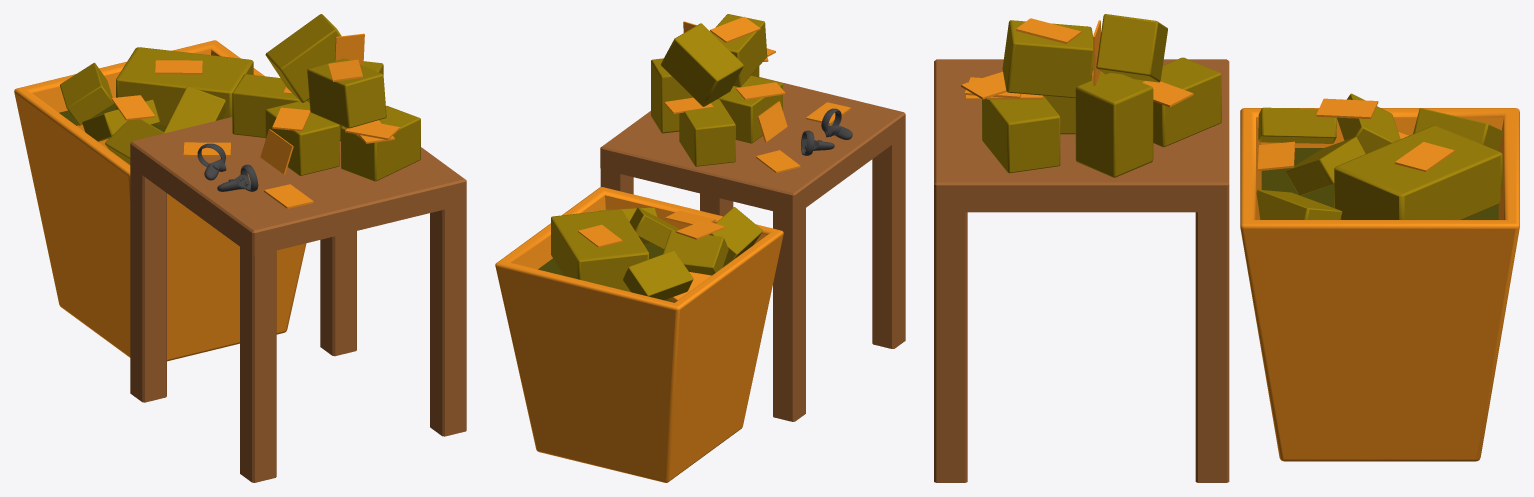
The model's file is posti_models.fbx.
3 renders of one model, left to right at view 1: azimuth 30°, elevation 25°; view 2: azimuth 150°, elevation 25°; view 3: azimuth 270°, elevation 25°, orthographic. The views are drawn at different scales.
Parts seen in each view (by area): view 1: Cube.001, Laatikko, Cube.004, Cube.012, Cube.003, Cube.013, Cube, Cube.002, Cube.008, Cube.005, Cube.006, Cube.007 (+11 smaller); view 2: Laatikko, Cube.001, Cube.004, Cube.013, Cube.002, Cube.008, Cube, Cube.007, Cube.011, Cube.012, Cube.006, Cube.005 (+10 smaller); view 3: Laatikko, Cube.001, Cube.004, Cube.011, Cube.012, Cube.003, Cube.002, Cube.013, Cube.006, Cube.005, Cube.009, Cube.007 (+9 smaller).
Part boxes in pixels (x1=…): Cube.001: x1=130, y1=117, x2=466, y2=482; Laatikko: x1=14, y1=40, x2=306, y2=361; Cube.004: x1=116, y1=47, x2=253, y2=126; Cube.012: x1=307, y1=58, x2=386, y2=128; Cube.003: x1=341, y1=106, x2=420, y2=181; Cube.013: x1=265, y1=14, x2=341, y2=102; Cube: x1=265, y1=100, x2=339, y2=175; Cube.002: x1=232, y1=74, x2=309, y2=137; Cube.008: x1=60, y1=62, x2=113, y2=125; Cube.005: x1=164, y1=86, x2=225, y2=132; Cube.006: x1=105, y1=119, x2=164, y2=164; Cube.007: x1=82, y1=99, x2=160, y2=141; Laatikko: x1=495, y1=187, x2=783, y2=482; Cube.001: x1=600, y1=77, x2=905, y2=421; Cube.004: x1=551, y1=209, x2=648, y2=291; Cube.013: x1=660, y1=23, x2=743, y2=106; Cube.002: x1=679, y1=99, x2=735, y2=166; Cube.008: x1=623, y1=250, x2=693, y2=300; Cube: x1=717, y1=75, x2=782, y2=143; Cube.007: x1=663, y1=231, x2=728, y2=275; Cube.011: x1=651, y1=58, x2=692, y2=133; Cube.012: x1=711, y1=14, x2=767, y2=87; Cube.006: x1=709, y1=207, x2=762, y2=265; Cube.005: x1=629, y1=207, x2=679, y2=249; Laatikko: x1=1240, y1=108, x2=1519, y2=461; Cube.001: x1=934, y1=59, x2=1229, y2=482; Cube.004: x1=1334, y1=125, x2=1502, y2=219; Cube.011: x1=1075, y1=73, x2=1153, y2=177; Cube.012: x1=1002, y1=20, x2=1092, y2=97; Cube.003: x1=982, y1=95, x2=1060, y2=173; Cube.002: x1=1135, y1=57, x2=1221, y2=147; Cube.013: x1=1096, y1=14, x2=1167, y2=82; Cube.006: x1=1258, y1=107, x2=1336, y2=143; Cube.005: x1=1286, y1=137, x2=1365, y2=195; Cube.009: x1=1256, y1=189, x2=1342, y2=219; Cube.007: x1=1337, y1=93, x2=1400, y2=153.
Size of the model in its own units: 106 by 172 by 210.
